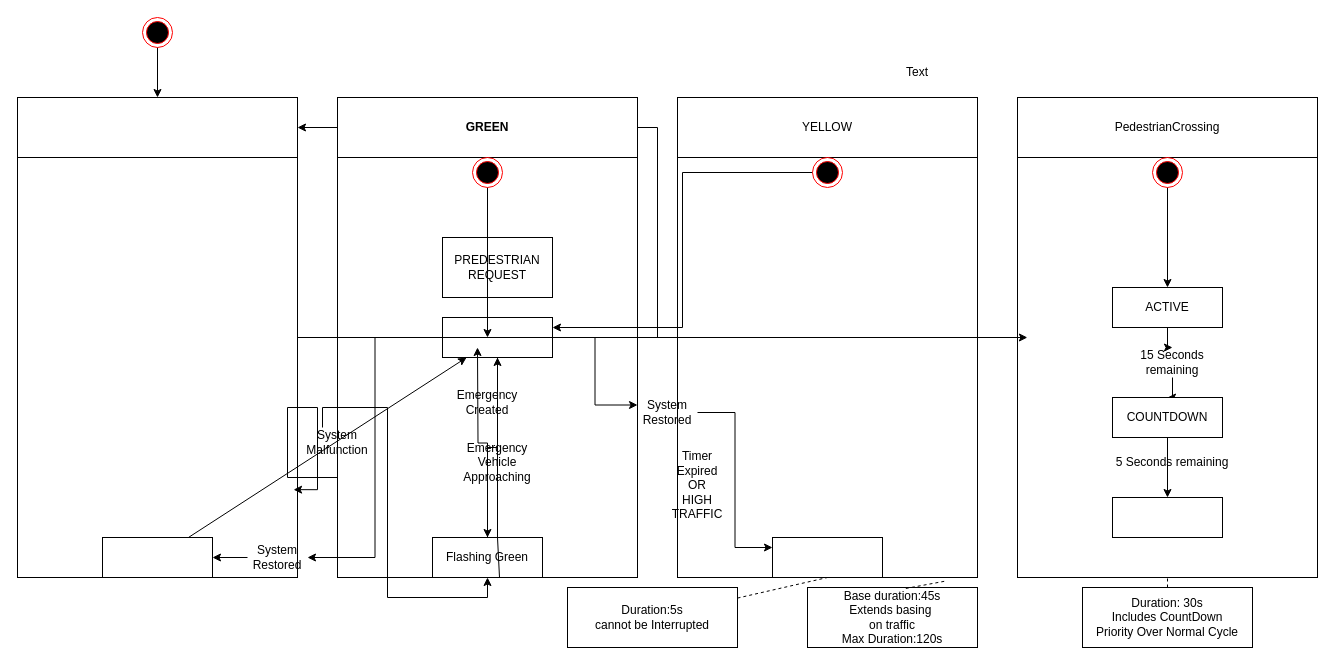
Image size: 1335x665. Some labels were removed from this diagram. The shapes that lost their labels are listed below. From the top down, each one's box as (x1, y1, x2, y2) in pixels, then its label:
(16, 96, 298, 158): RED
(442, 316, 552, 358): STEADY
(1112, 496, 1222, 538): WARNING
(102, 536, 212, 578): Flashing Red
(772, 536, 882, 578): Flashing Yellow
